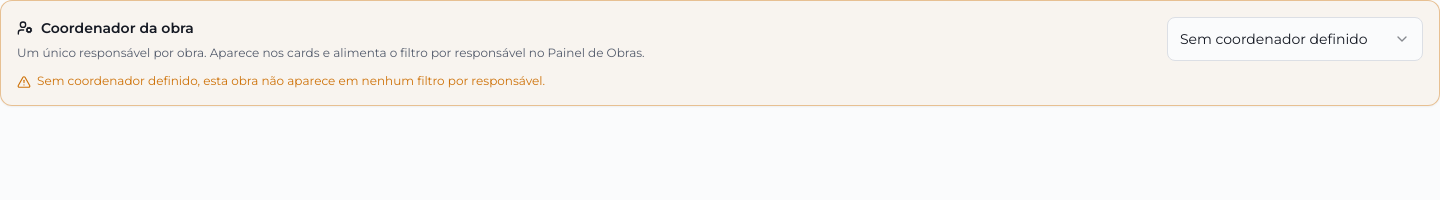
GestorObraSelect › erro do banco desfaz a escolha otimista
Click the dropdown. click: (1295, 39)
box: [1167,17,1423,61]
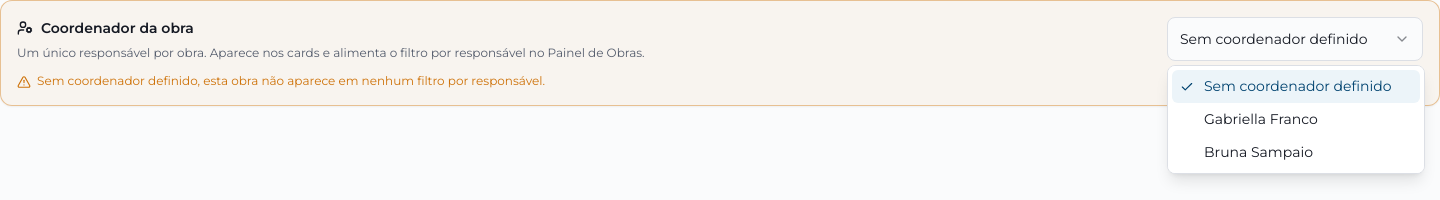
Click the option "Gabriella Franco". click: (1261, 119)
box: [1204,110,1318,128]
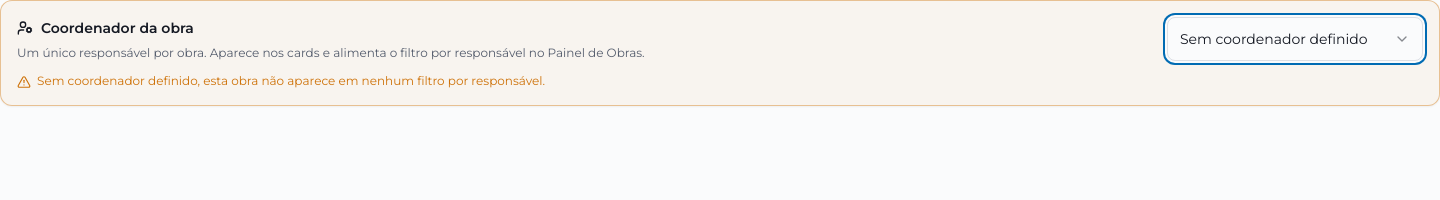
Expected: the text "não aparece em nenhum filtro por responsável" is shown, [37,73,545,88]
Expected: the option "Gabriella Franco" is gone
